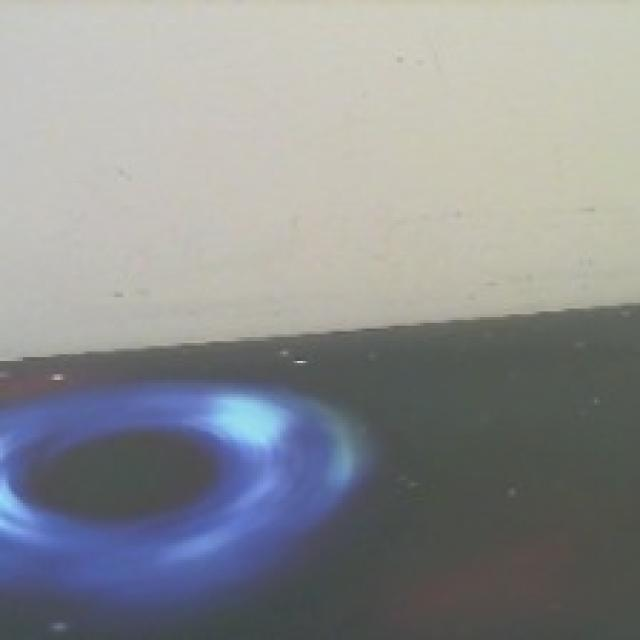Black Hole: (0, 383, 357, 608)
